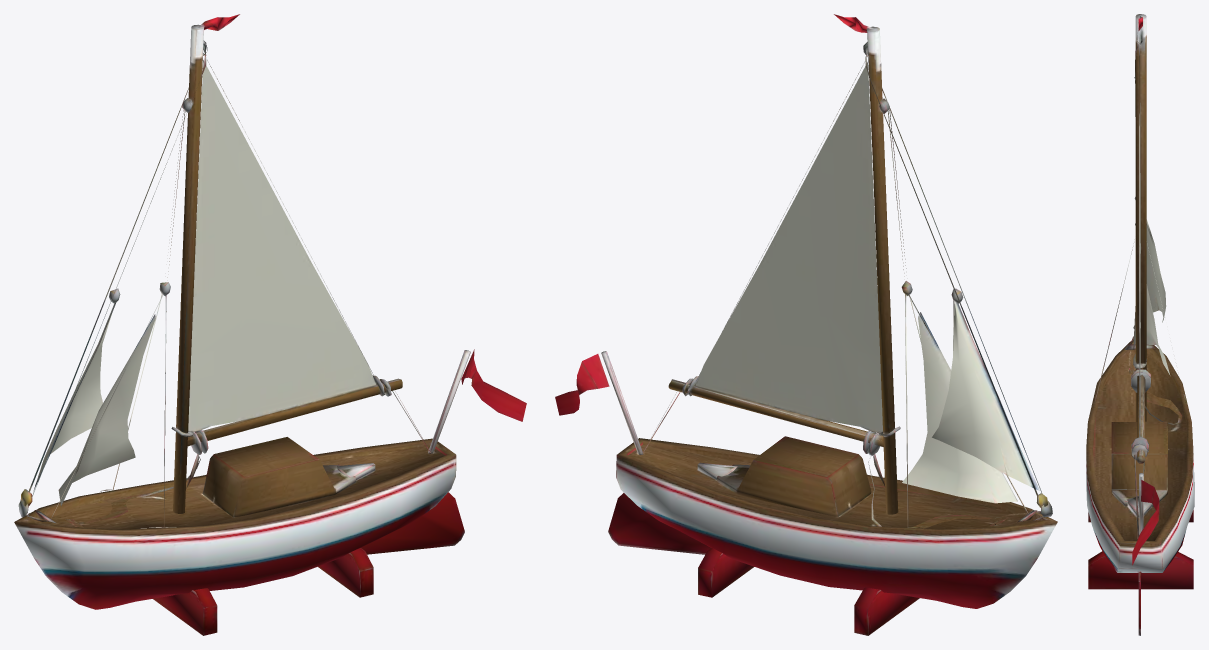
The model's file is sloop.glb.
3 views of the same model, side by side, from view 1: azimuth 30°, elevation 25°; view 2: azimuth 150°, elevation 25°; view 3: azimuth 270°, elevation 25° (orthographic). The views are drawn at different scales.
Bounding box in the file's own units: 0.8623 × 0.9517 × 0.1816.
1 material, 1 textured.
